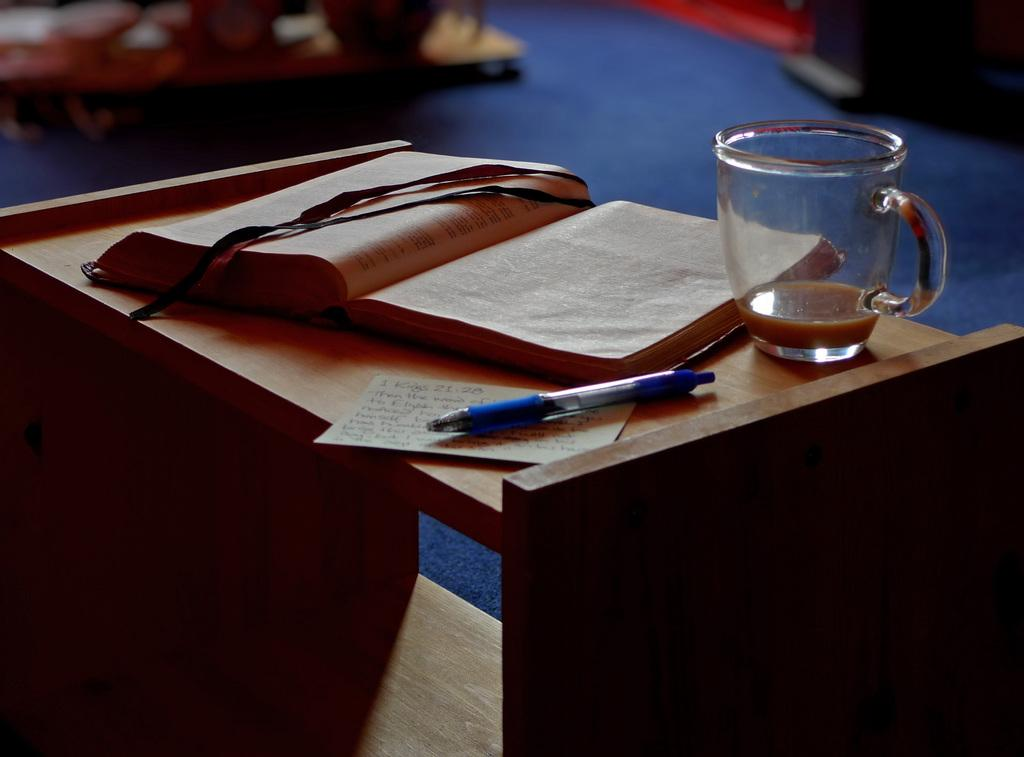Book: (78, 143, 822, 386)
